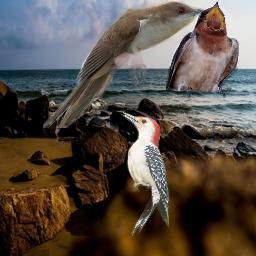Cuckoo: (43, 1, 212, 128)
Swallow: (166, 1, 239, 98)
Woodpecker: (119, 111, 169, 236)
